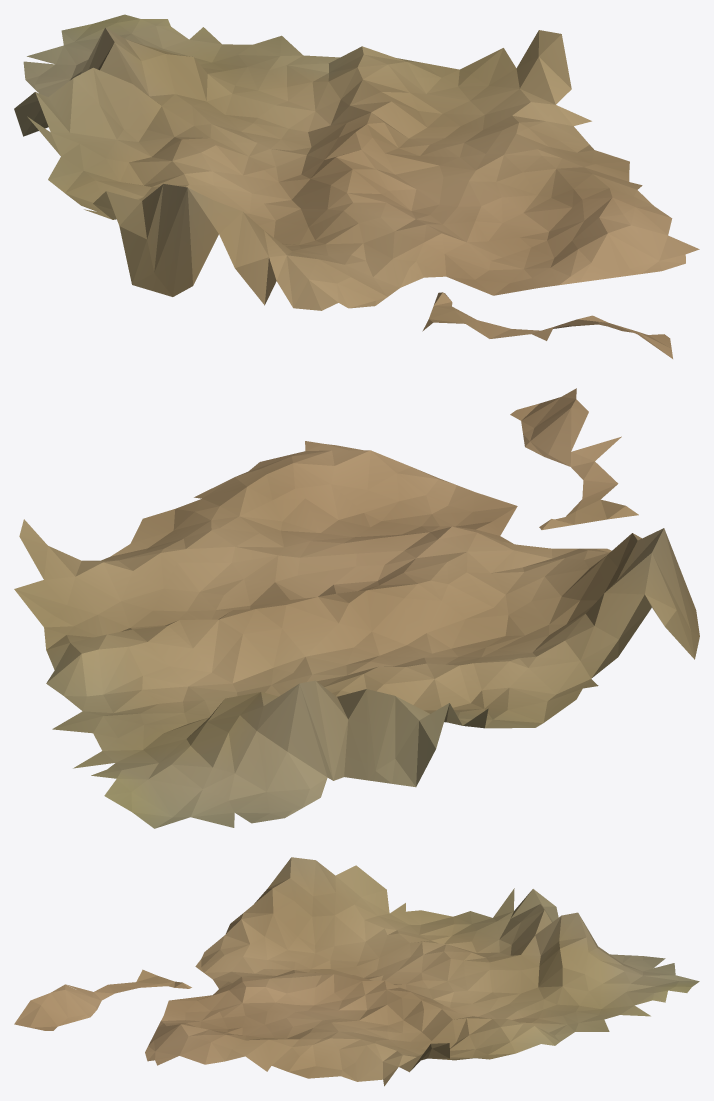
3 renders of one model, top to bottom at view 1: azimuth 30°, elevation 25°; view 2: azimuth 150°, elevation 25°; view 3: azimuth 270°, elevation 25°, orthographic. The views are drawn at different scales.
Parts seen in each view (by area): view 1: 波斯高原; view 2: 波斯高原; view 3: 波斯高原.
Boxes of the visible parts, <box> form: 波斯高原: <box>14,14,699,358</box>; 波斯高原: <box>14,388,699,828</box>; 波斯高原: <box>14,857,699,1086</box>.
Bounding box in the file's own units: 12.55 × 2.43 × 20.62.
